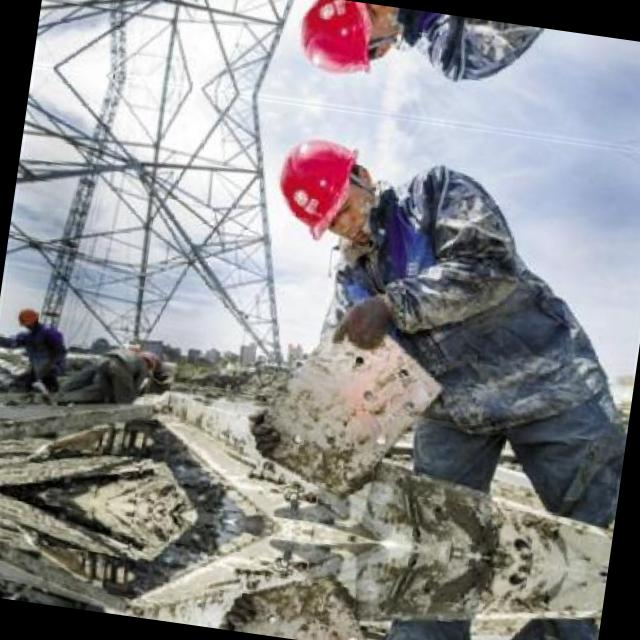helmet: (262, 122, 376, 256), (286, 0, 397, 90), (6, 297, 44, 335)
